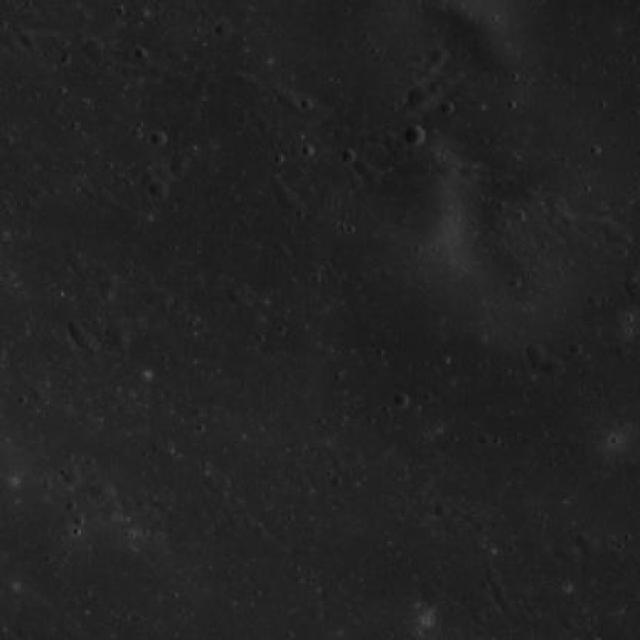crater: (292, 92, 326, 125), (408, 84, 438, 115), (104, 322, 130, 347), (82, 38, 106, 64), (92, 480, 116, 505), (418, 578, 442, 602), (276, 187, 298, 210), (70, 323, 92, 346), (526, 342, 548, 364), (63, 466, 85, 488), (405, 125, 427, 147), (98, 500, 120, 522), (544, 192, 566, 214), (547, 357, 567, 377), (279, 88, 299, 108), (153, 286, 173, 306), (598, 217, 618, 237), (189, 152, 209, 172), (424, 146, 444, 166), (363, 170, 382, 190), (574, 214, 594, 233), (152, 180, 170, 200), (216, 20, 235, 38), (175, 150, 194, 168), (437, 158, 455, 177), (227, 288, 246, 306), (164, 45, 182, 64), (140, 167, 158, 186), (430, 80, 448, 98), (142, 284, 160, 302), (100, 274, 118, 291), (194, 64, 211, 82), (384, 133, 401, 150), (354, 158, 371, 175), (269, 173, 286, 190), (432, 48, 450, 64), (307, 602, 324, 618), (128, 526, 144, 543), (498, 596, 514, 613), (21, 30, 37, 46), (234, 72, 250, 88), (256, 115, 272, 131), (366, 128, 382, 144), (0, 24, 12, 43), (170, 298, 184, 314), (558, 210, 574, 224), (176, 75, 190, 91)
